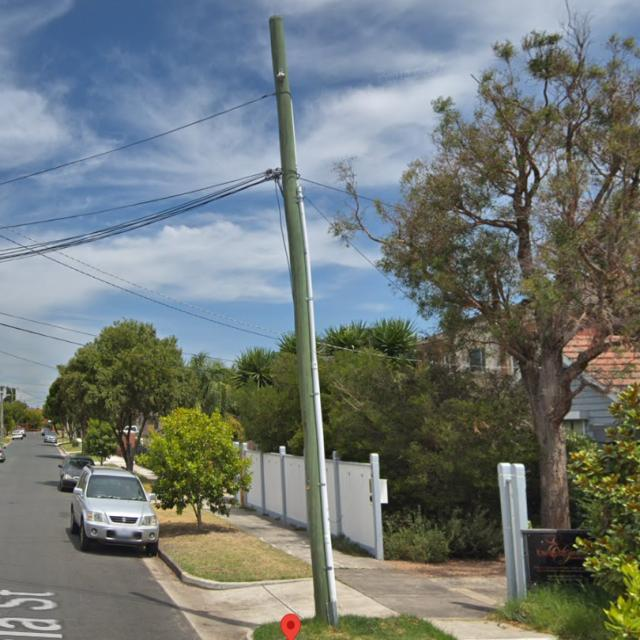timber-pole: (268, 15, 340, 627)
